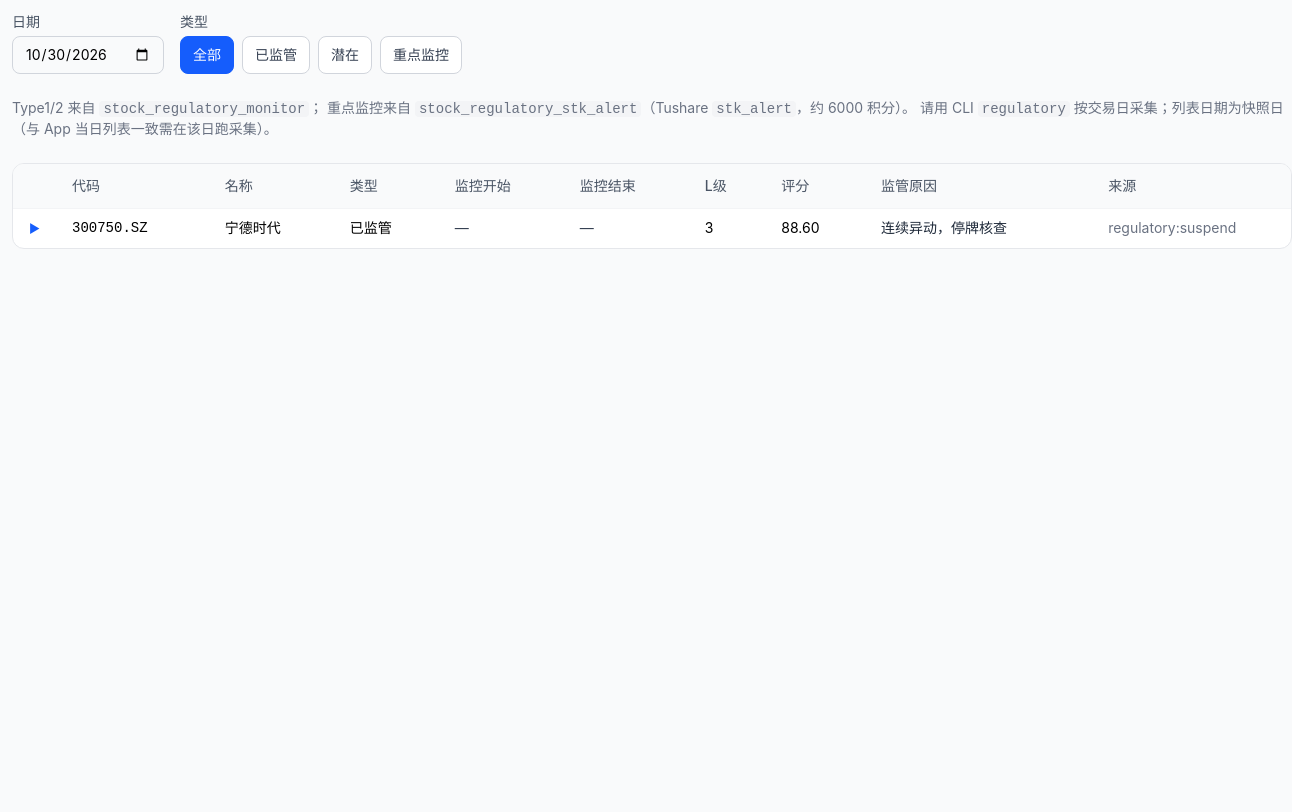
Test: RegulatoryMonitor › renders regulatory rows and expandable detail
The width and height of the screenshot is (1292, 812).
Expected: the text "宁德时代" is shown, [209,208,334,248]
Expected: the column heading "监管原因" is shown, [865,164,1092,208]
Step 1. Click the button "▶" → x=34, y=229, box [29,221,40,237]
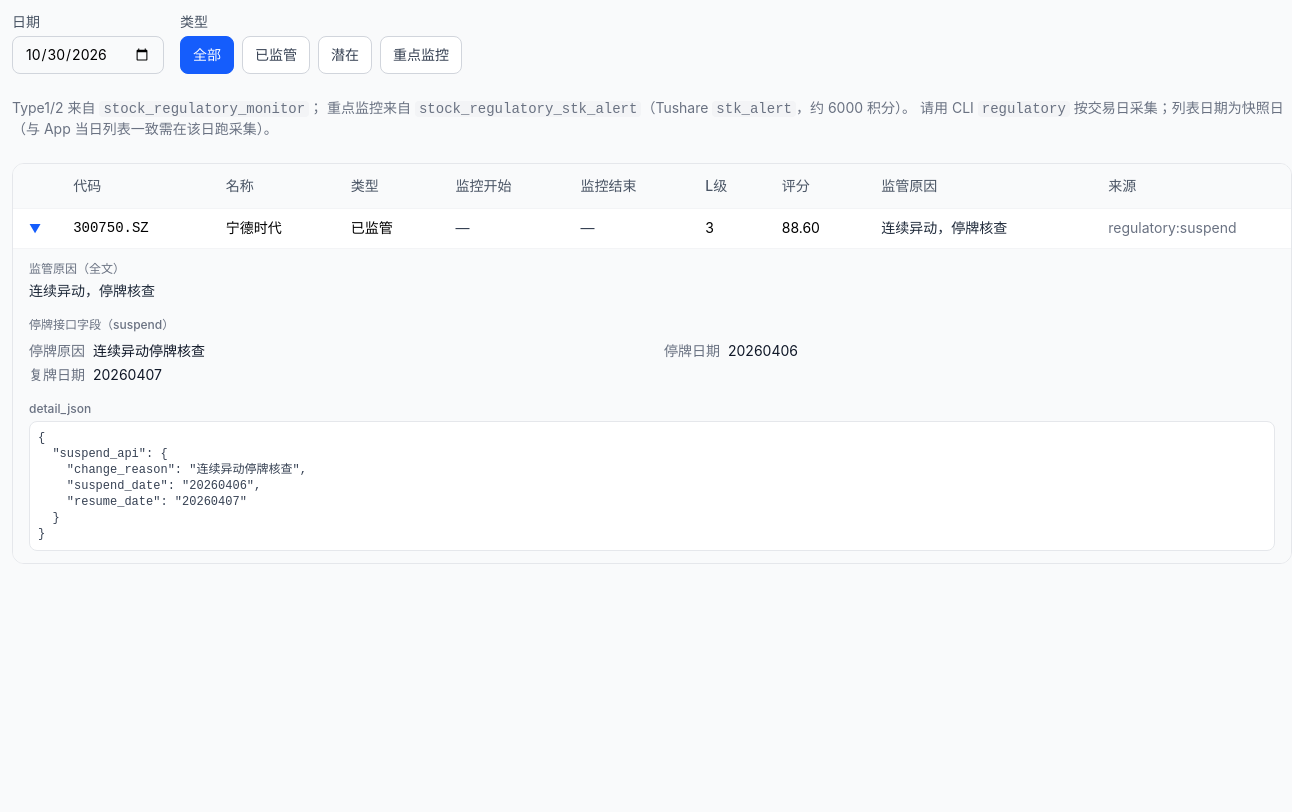
Now the text "停牌接口字段（suspend）" is shown, box [29,317,174,332]
Now the text "停牌原因" is shown, box [29,341,85,361]
Now the text "连续异动停牌核查" is shown, box [93,341,205,361]
